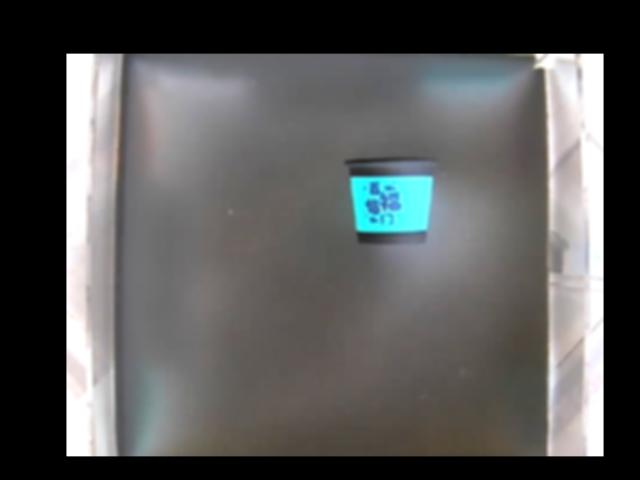Cup: (346, 152, 438, 246)
